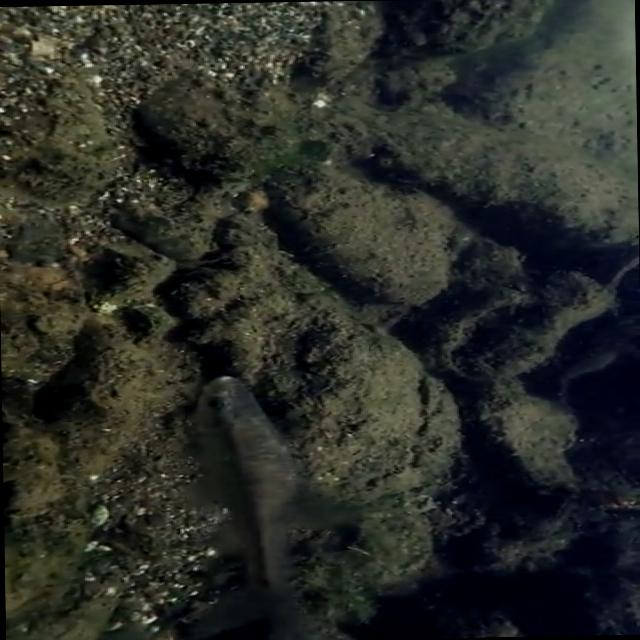Cakil Baligi: (169, 372, 322, 636)
